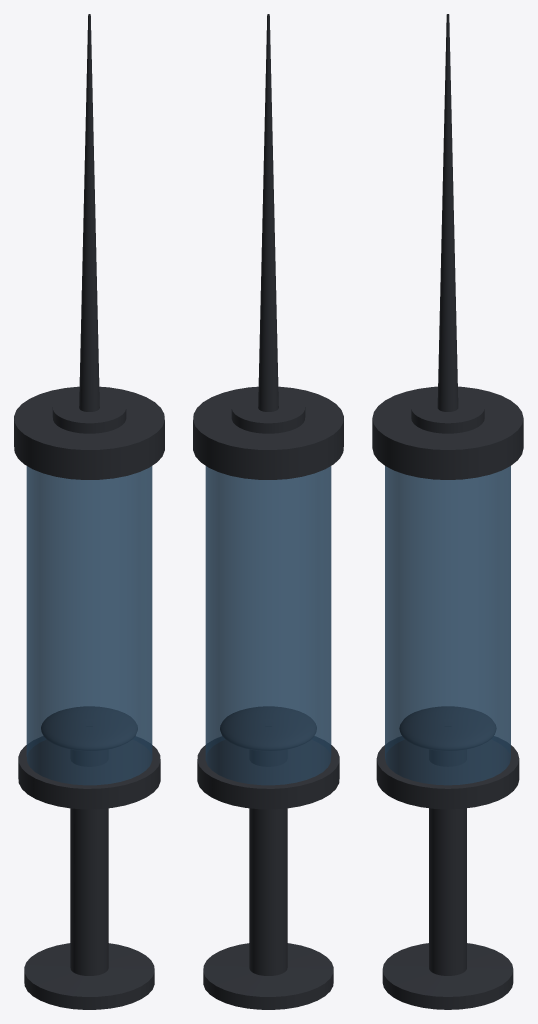
File: block spitz.FBX
The picture shows the model from 3 angles, left to right: view 1: azimuth 30°, elevation 25°; view 2: azimuth 150°, elevation 25°; view 3: azimuth 270°, elevation 25°; orthographic projection.
Parts seen in each view (by area): view 1: Cylinder002; view 2: Cylinder002; view 3: Cylinder002.
Part boxes in pixels (bbox=[...]): Cylinder002: bbox=[14, 14, 164, 1009]; Cylinder002: bbox=[193, 14, 343, 1009]; Cylinder002: bbox=[372, 14, 523, 1009].
Bounding box in the file's own units: 21.36 × 151 × 21.36.
